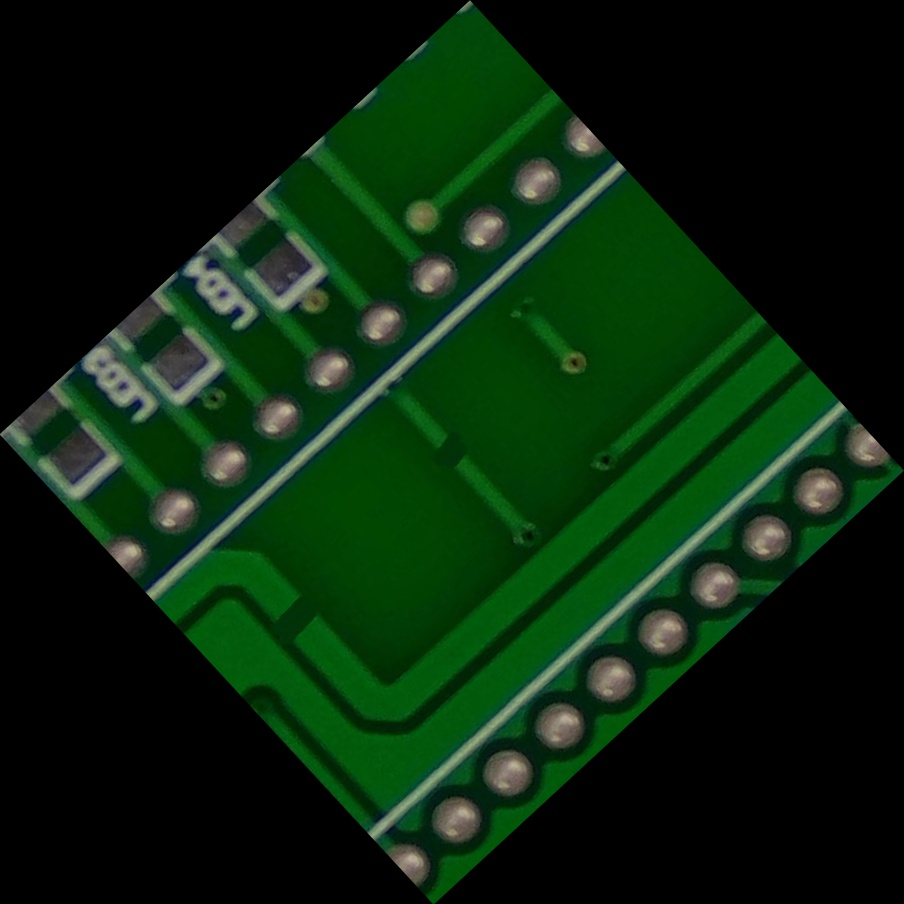open_circuit: (415, 415, 490, 489)
